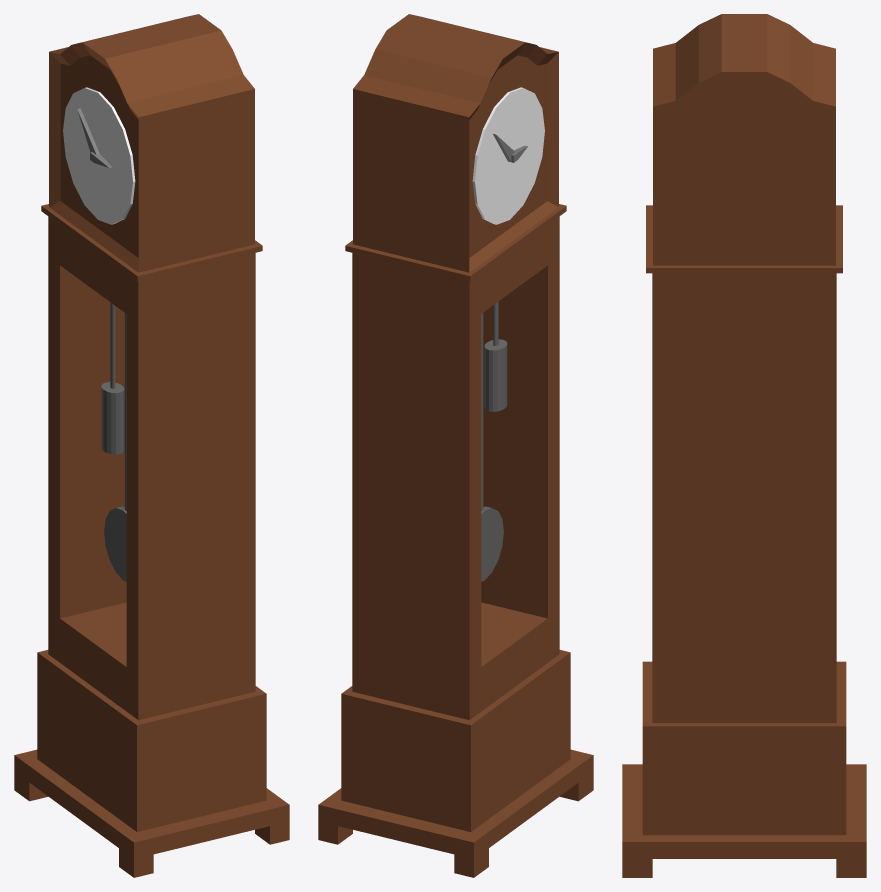
The model's file is grandfatherclock01.gltf.
The picture shows the model from 3 angles, left to right: view 1: azimuth 30°, elevation 25°; view 2: azimuth 150°, elevation 25°; view 3: azimuth 270°, elevation 25°; orthographic projection. The views are drawn at different scales.
Visible parts, largest first — view 1: Cube; view 2: Cube; view 3: Cube.
Part boxes in pixels (x1=…): Cube: x1=14, y1=14, x2=289, y2=877; Cube: x1=318, y1=14, x2=593, y2=877; Cube: x1=622, y1=14, x2=866, y2=877.
Size of the model in its own units: 0.5176 by 2.48 by 0.6898.
1 material, 1 textured.
